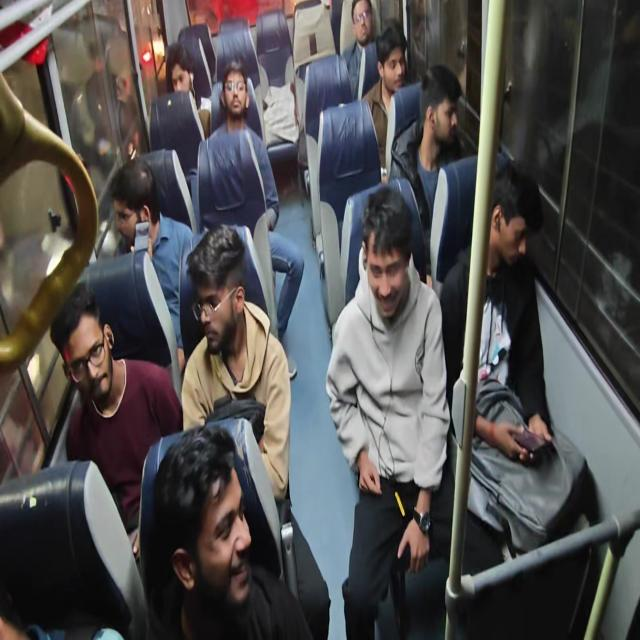person: (144, 449, 288, 640), (50, 274, 144, 429), (164, 205, 248, 367), (360, 173, 423, 318), (94, 162, 169, 271), (488, 162, 539, 256), (0, 513, 33, 639), (419, 66, 462, 156), (381, 17, 420, 114), (350, 0, 392, 66), (220, 58, 258, 122), (164, 41, 198, 102)
